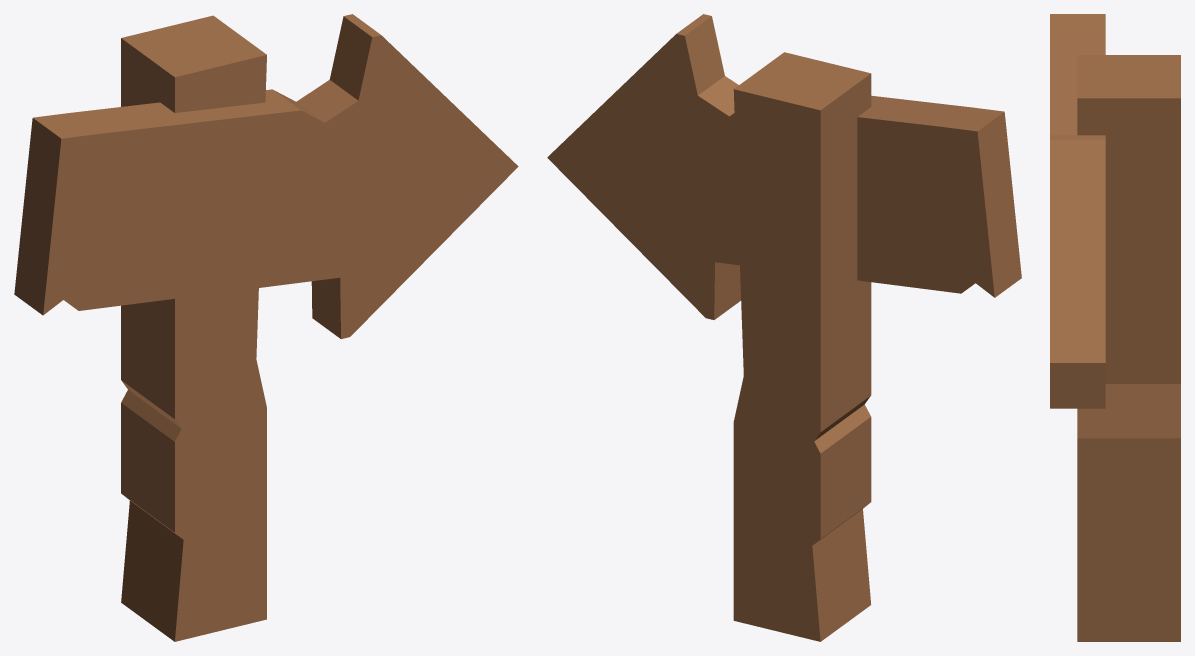
The model's file is Sign_Right.glb.
The picture shows the model from 3 angles, left to right: view 1: azimuth 30°, elevation 25°; view 2: azimuth 150°, elevation 25°; view 3: azimuth 270°, elevation 25°; orthographic projection. The views are drawn at different scales.
Parts seen in each view (by area): view 1: Sign_Right; view 2: Sign_Right; view 3: Sign_Right.
Boxes of the visible parts, x1=… form: Sign_Right: x1=14, y1=14, x2=518, y2=641; Sign_Right: x1=547, y1=14, x2=1021, y2=641; Sign_Right: x1=1050, y1=14, x2=1180, y2=641.
Size of the model in its own units: 1.11 by 1.27 by 0.2746.
